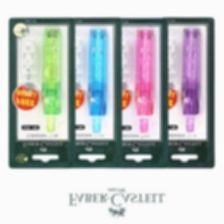book: (4, 13, 76, 170), (58, 11, 124, 170), (104, 15, 170, 170), (152, 15, 214, 169)
correction_fluid: (131, 25, 157, 134), (84, 26, 109, 135), (177, 26, 202, 134), (37, 26, 61, 133), (17, 25, 39, 91)
